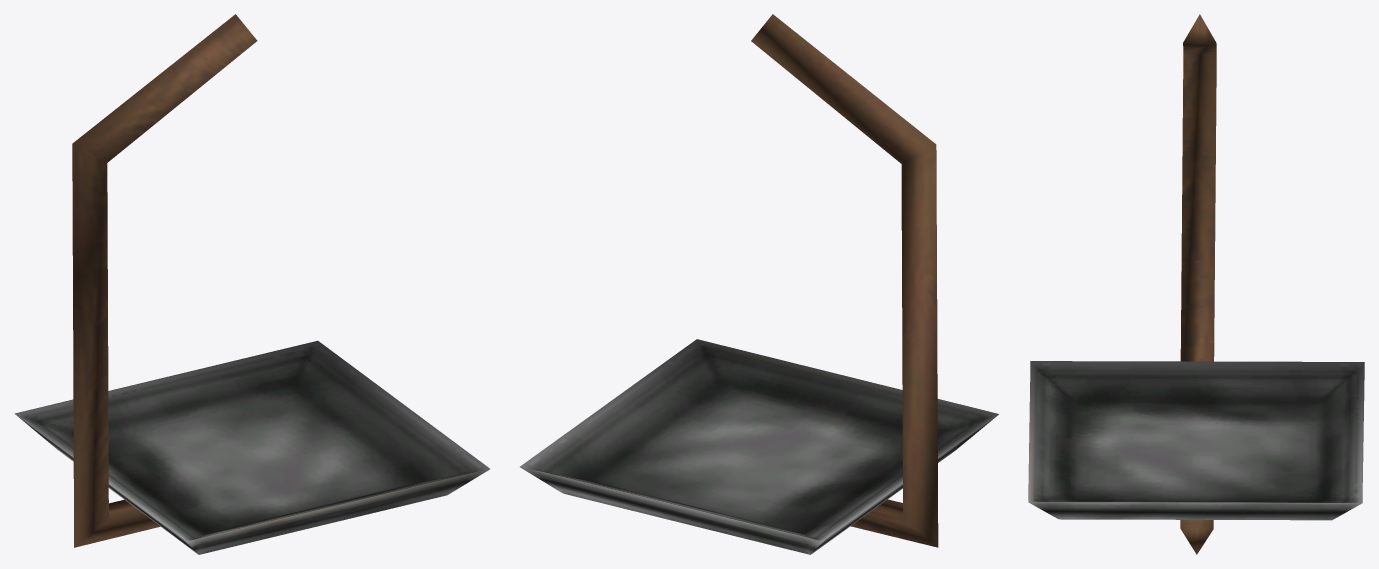
The model's file is INST_SWORDLIGHT_CONV12-NEW.fbx.
3 views of the same model, side by side, from view 1: azimuth 30°, elevation 25°; view 2: azimuth 150°, elevation 25°; view 3: azimuth 270°, elevation 25° (orthographic). The views are drawn at different scales.
Parts seen in each view (by area): view 1: INST_SWORDLIGHT_CONV12-NEW; view 2: INST_SWORDLIGHT_CONV12-NEW; view 3: INST_SWORDLIGHT_CONV12-NEW.
Boxes of the visible parts, x1=… form: INST_SWORDLIGHT_CONV12-NEW: x1=14, y1=14, x2=489, y2=554; INST_SWORDLIGHT_CONV12-NEW: x1=520, y1=14, x2=998, y2=554; INST_SWORDLIGHT_CONV12-NEW: x1=1028, y1=14, x2=1364, y2=554.
Size of the model in its own units: 16385 by 23348 by 15104.
1 material, 1 textured.
